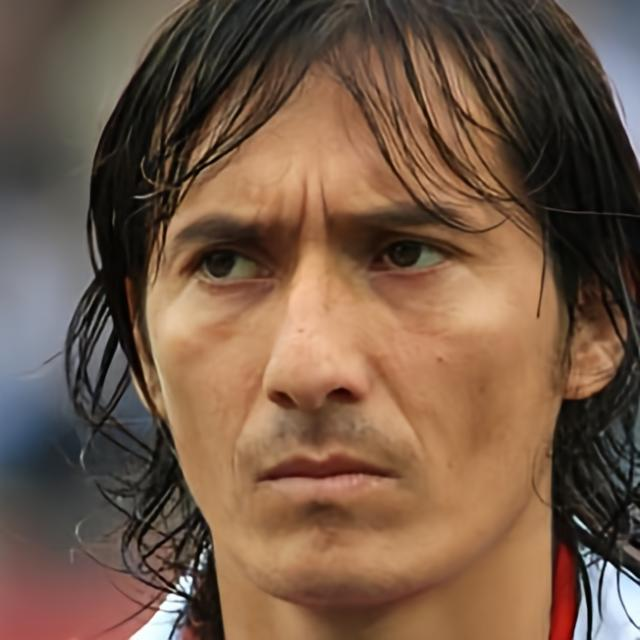anger: (138, 44, 560, 606)
